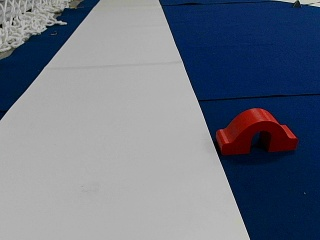bridge: (217, 108, 296, 152)
